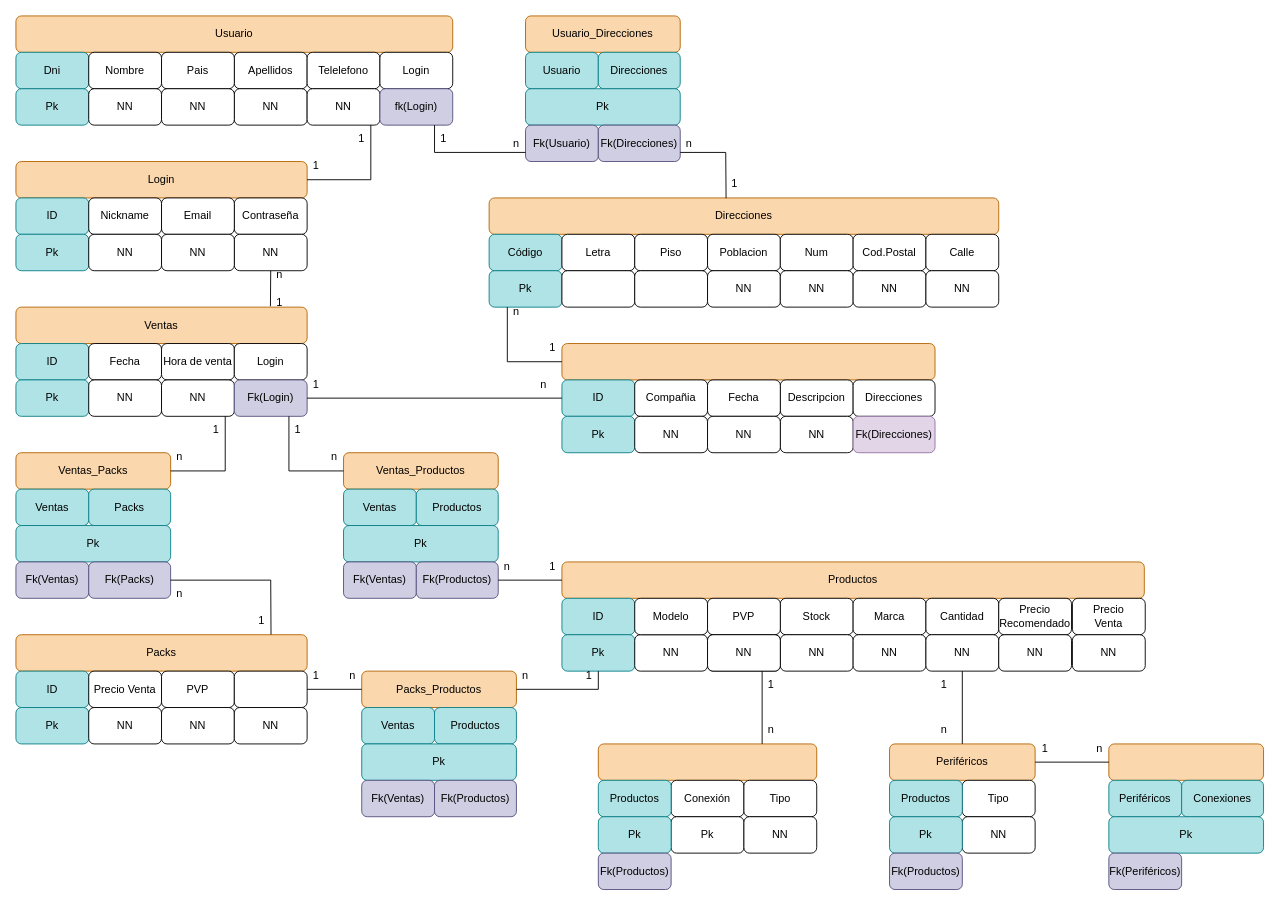
Image size: 1279x905. Some labels were removed from this diagram. The centre of each missing label's shape, as x and y in pixels:
"Componentes" belongs at point 707,761.
"Envíos" belongs at point 748,361.
"Periféricos_Conexiones" belongs at point 1186,761.
"Suma Productos" belongs at point 270,689.
